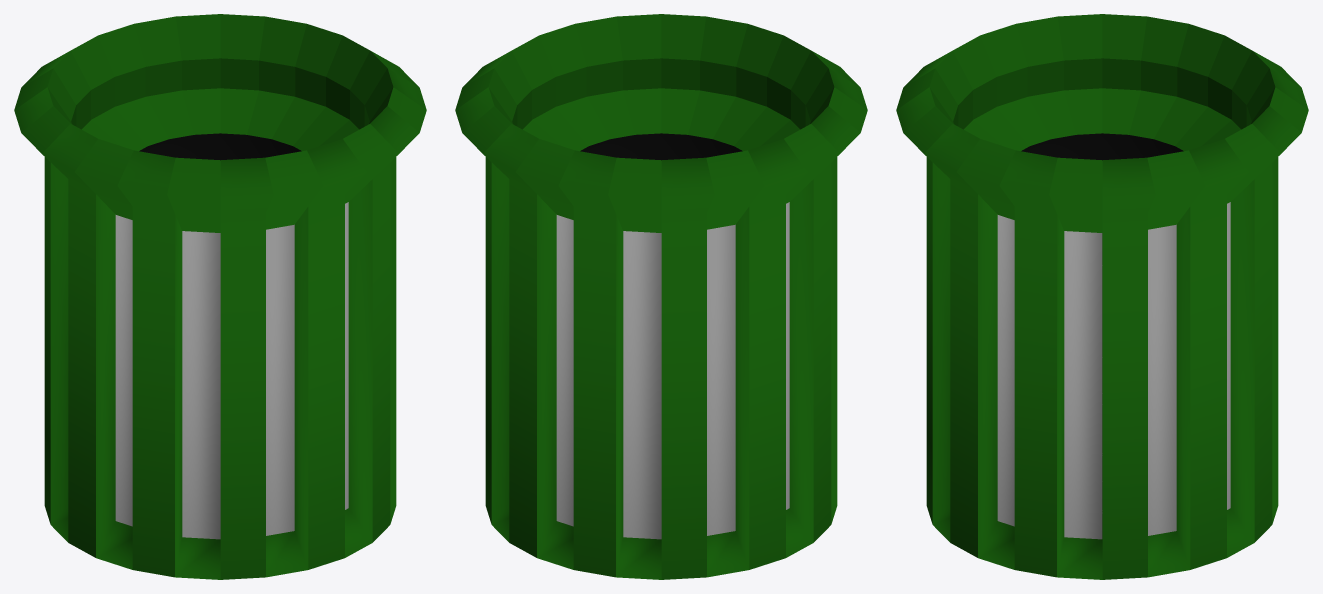
File: bin.glb
3 views of the same model, side by side, from view 1: azimuth 30°, elevation 25°; view 2: azimuth 150°, elevation 25°; view 3: azimuth 270°, elevation 25° (orthographic).
Parts seen in each view (by area): view 1: Cylinder; view 2: Cylinder; view 3: Cylinder.
Part boxes in pixels (x1=…): Cylinder: x1=14, y1=14, x2=426, y2=579; Cylinder: x1=455, y1=14, x2=867, y2=579; Cylinder: x1=896, y1=14, x2=1308, y2=579.
Bounding box in the file's own units: 2.35 × 2.63 × 2.35.
